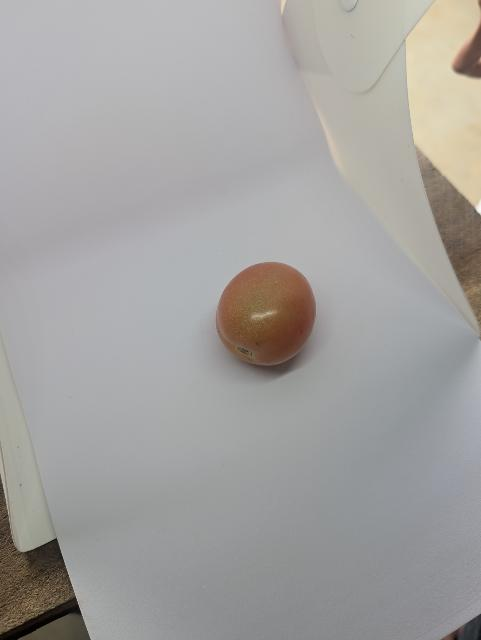turning: (208, 257, 322, 368)
